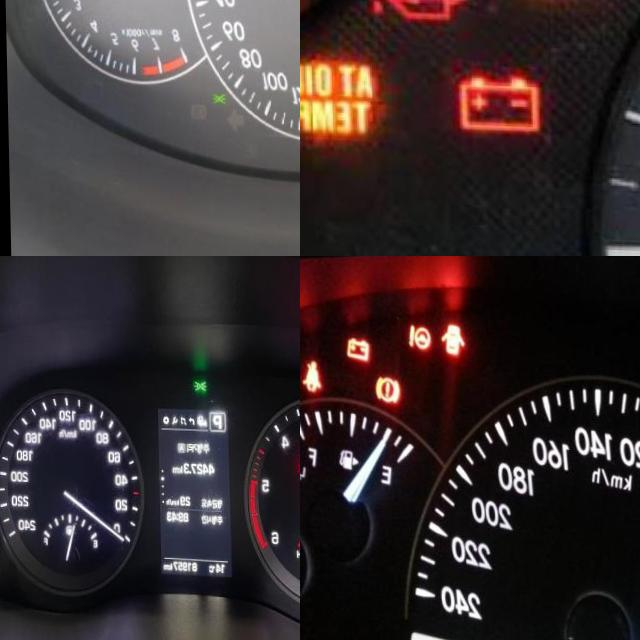Electronic Power Steering: (407, 324, 431, 351)
Seat Belt: (302, 358, 321, 392)
SideLamp: (193, 377, 207, 390)
